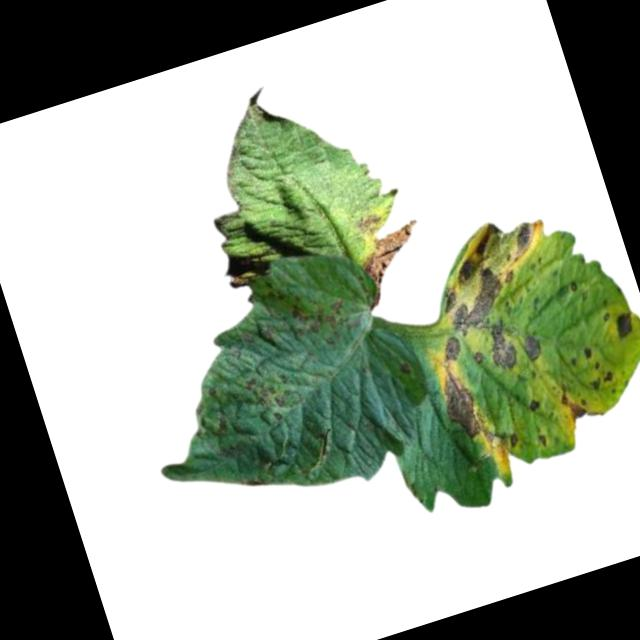Early_blight: (419, 206, 567, 340), (353, 220, 436, 308), (284, 283, 364, 352), (431, 359, 492, 444), (244, 362, 302, 426), (481, 317, 524, 375), (557, 381, 591, 424), (437, 331, 465, 365), (587, 368, 619, 395), (610, 308, 638, 338), (520, 331, 547, 362), (356, 210, 382, 234), (504, 428, 522, 450), (580, 342, 596, 361), (536, 429, 551, 448), (526, 395, 543, 411), (396, 359, 413, 375), (473, 349, 484, 363)
